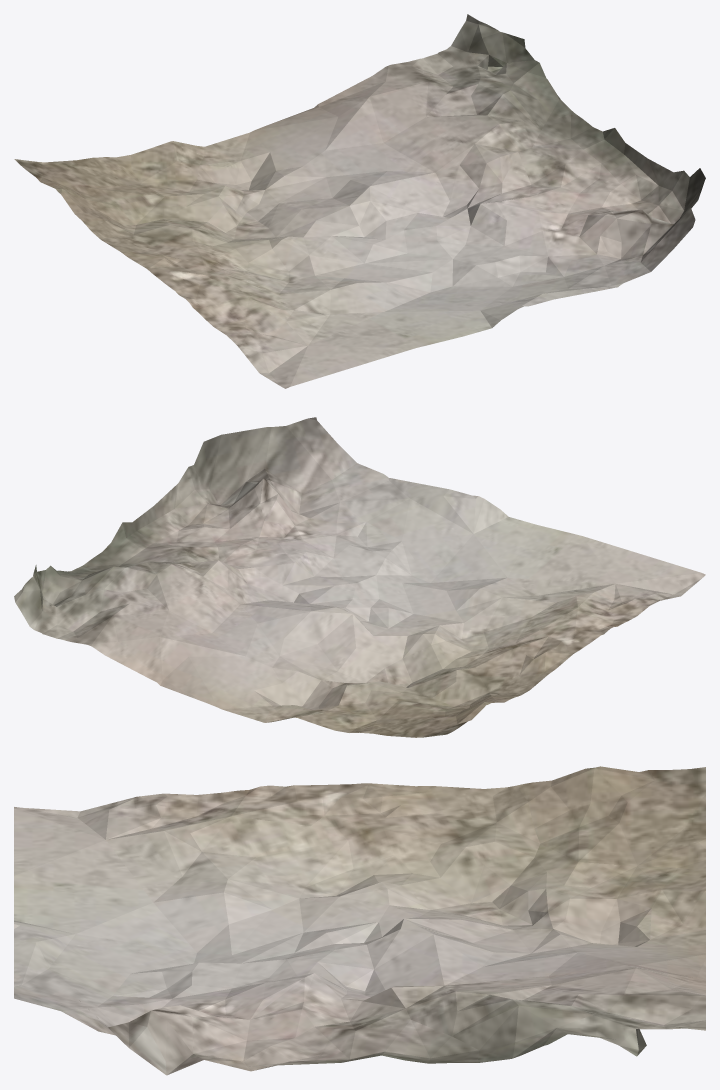
The picture shows the model from 3 angles, top to bottom: view 1: azimuth 30°, elevation 25°; view 2: azimuth 150°, elevation 25°; view 3: azimuth 270°, elevation 25°; orthographic projection. The views are drawn at different scales.
Size of the model in its own units: 5.9 by 0.983 by 5.9.
2 materials, 2 textured.
